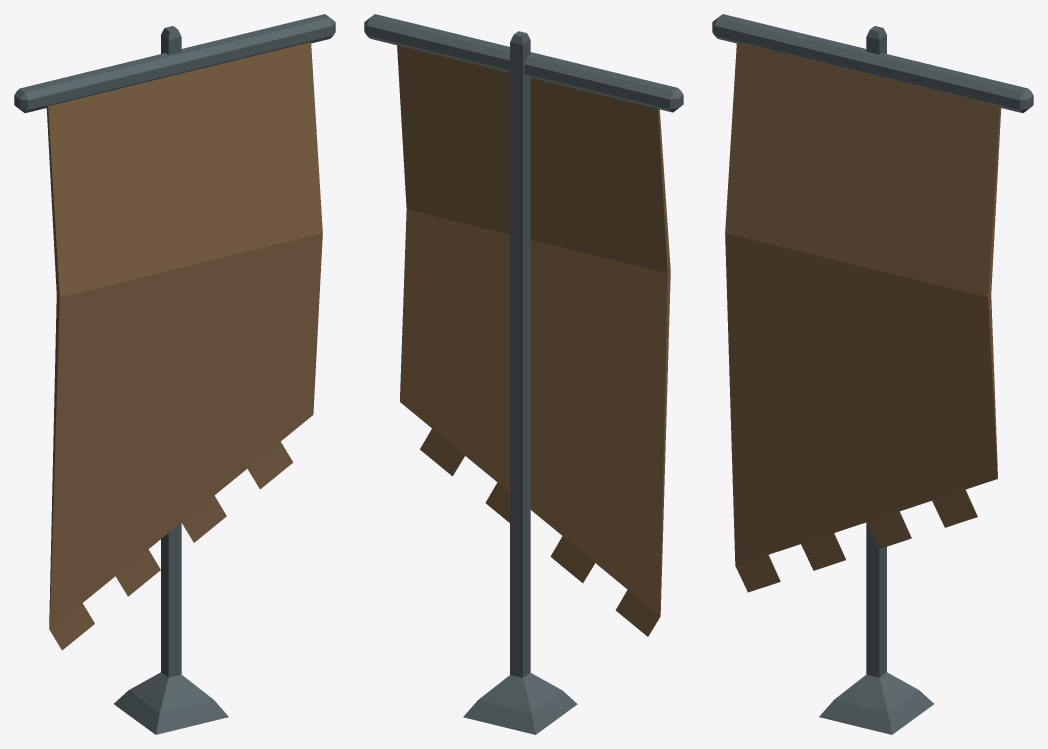
File: Banner_5_Brown.fbx
3 renders of one model, left to right at view 1: azimuth 30°, elevation 25°; view 2: azimuth 150°, elevation 25°; view 3: azimuth 330°, elevation 25°, orthographic.
Visible parts, largest first — view 1: Banner_5_Brown_Part_2, Banner_5_Brown_Part_1; view 2: Banner_5_Brown_Part_2, Banner_5_Brown_Part_1; view 3: Banner_5_Brown_Part_2, Banner_5_Brown_Part_1.
Boxes of the visible parts, box(x1,y1,x2,y2) form: Banner_5_Brown_Part_2: box(46, 42, 322, 650); Banner_5_Brown_Part_1: box(14, 14, 335, 734); Banner_5_Brown_Part_2: box(397, 45, 670, 636); Banner_5_Brown_Part_1: box(364, 14, 683, 734); Banner_5_Brown_Part_2: box(725, 42, 1001, 592); Banner_5_Brown_Part_1: box(712, 14, 1033, 734).
Bounding box in the file's own units: 146 × 300 × 33.74.
